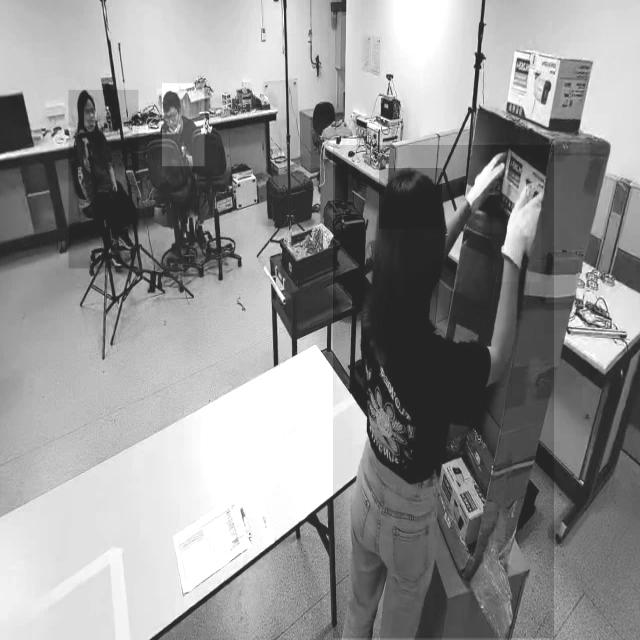face_nomask: (84, 107, 96, 126)
hand_glove: (455, 142, 509, 233), (493, 182, 541, 282)
hand_noglove: (111, 181, 120, 199)
head_nohelmet: (378, 168, 442, 230), (162, 89, 182, 107), (77, 88, 95, 105)
person: (332, 145, 554, 639), (68, 90, 138, 269), (162, 84, 204, 167)
